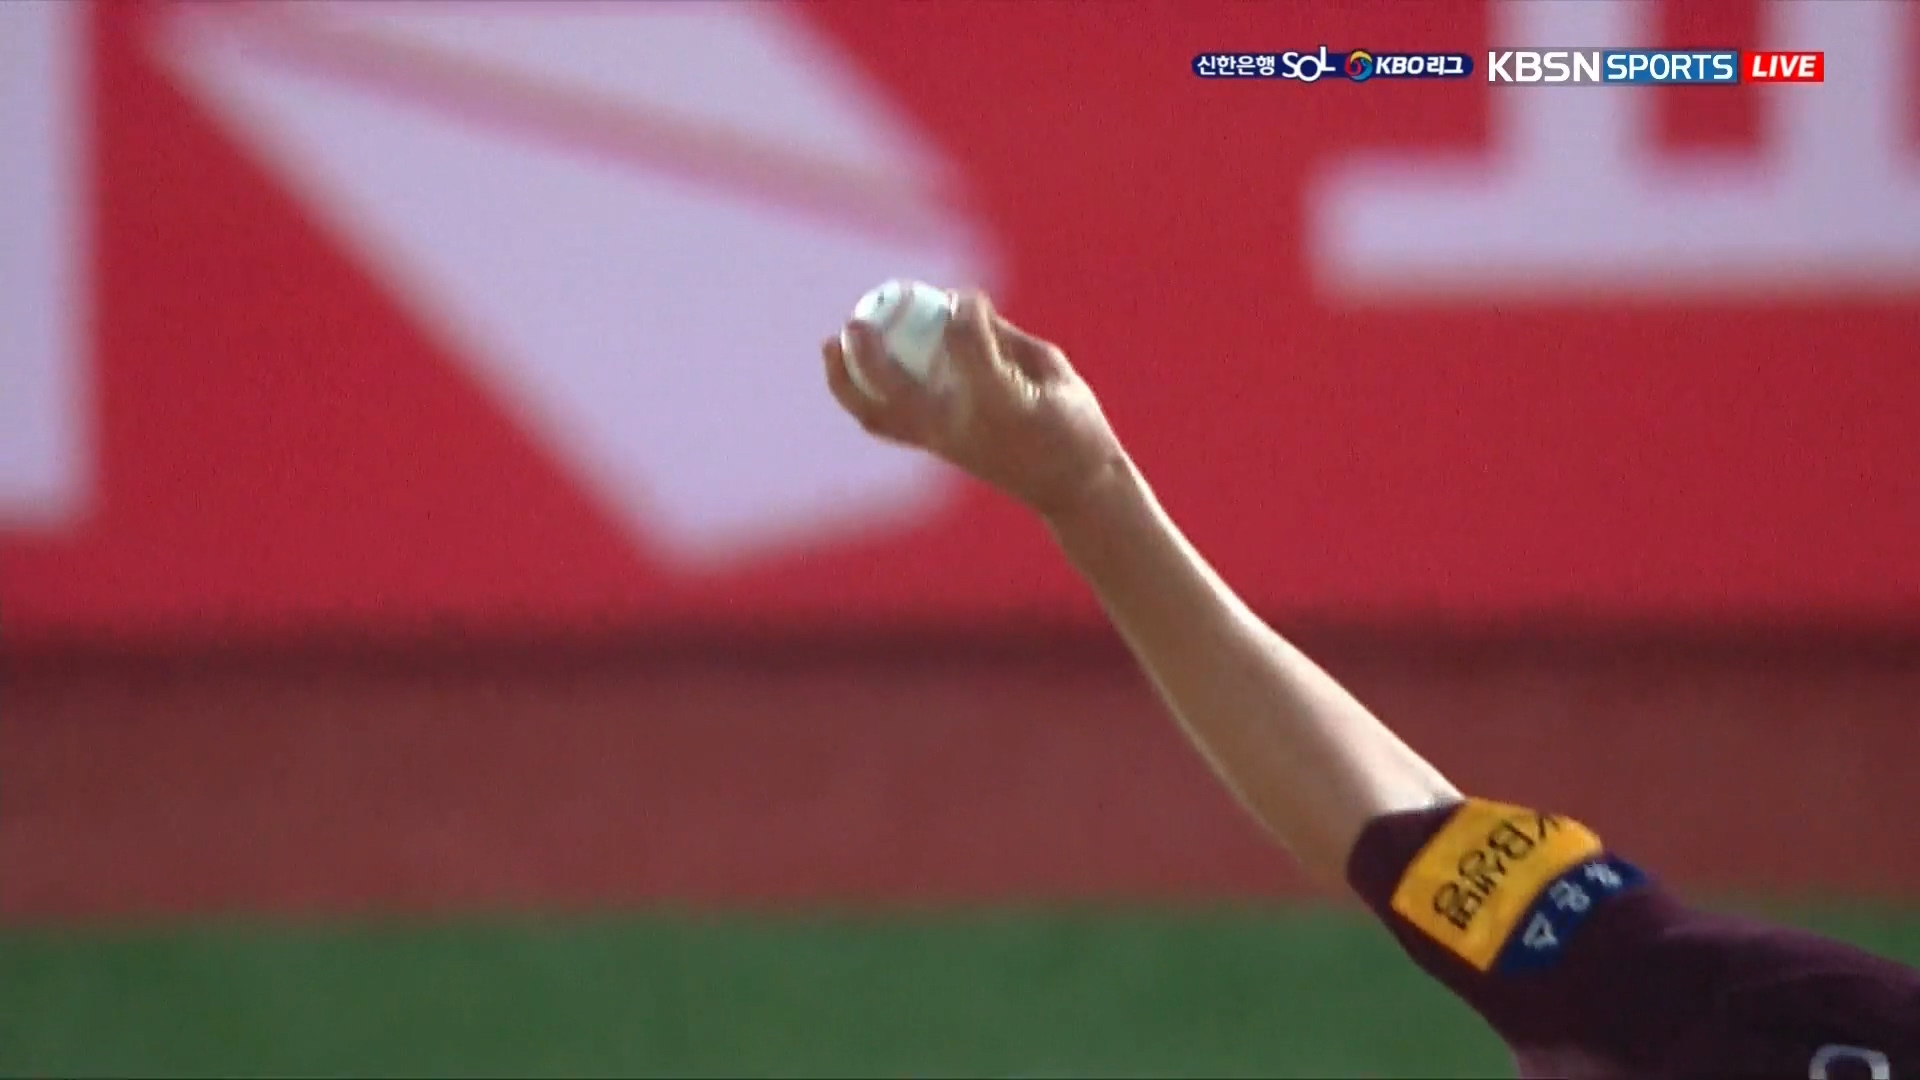zoomin_hand: (814, 272, 1428, 953)
